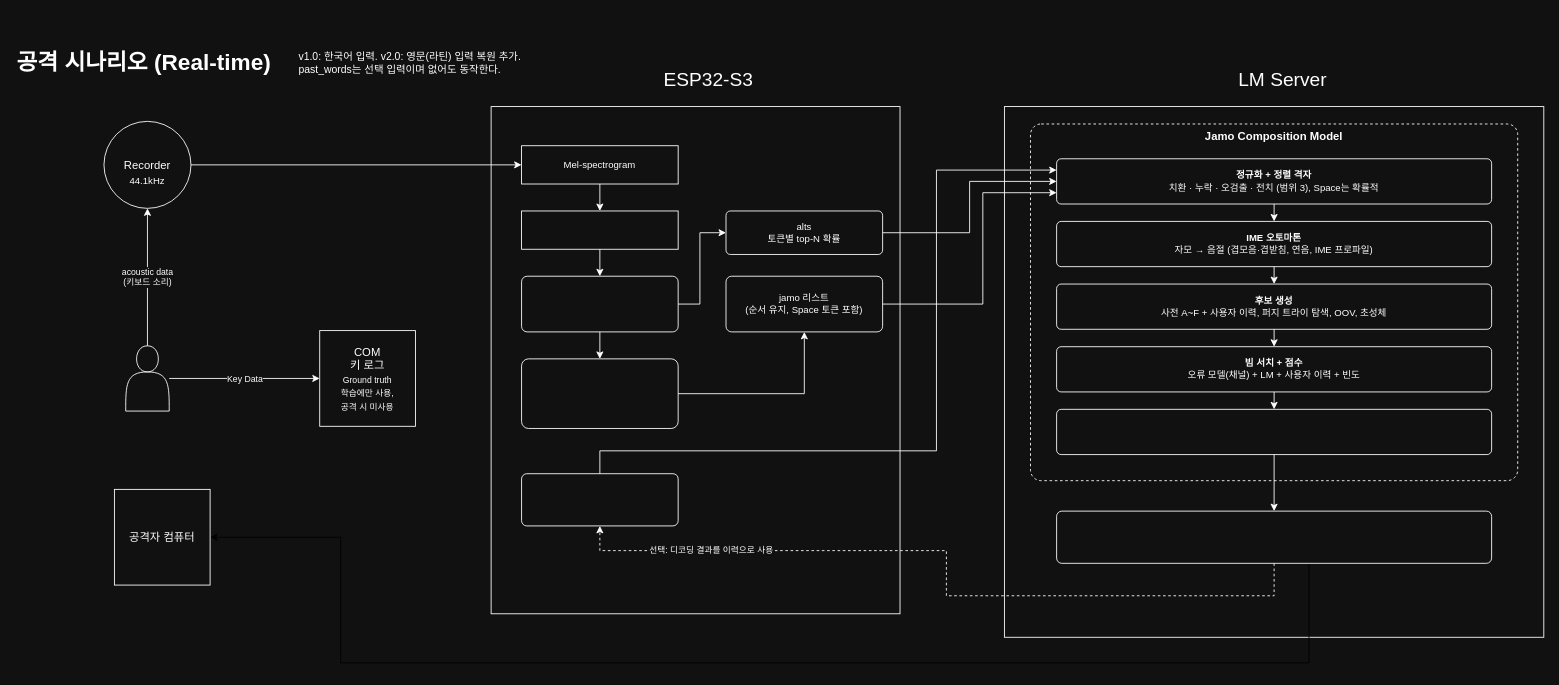
The diagram is 1559 pixels wide and 685 high, and some of its shapes have lost their labels. Each missing label, with the box of its shape:
fully-classified jamo set (Space · Delete · Shift · Caps Lock 처리 후): (521, 358, 678, 428)
half-classified jamo set (확률 분포): (521, 275, 678, 332)
LM 재순위 유니그램 → n-gram → Transformer: (1056, 408, 1492, 455)
Past Words List (선택) 사용자의 이전 단어 + 횟수: (521, 473, 678, 526)
Pre-trained CNN: (521, 210, 678, 249)
복원 텍스트 Top-K (5개 이상) + 상대 신뢰도 + 설명 추적: (1056, 510, 1492, 563)
